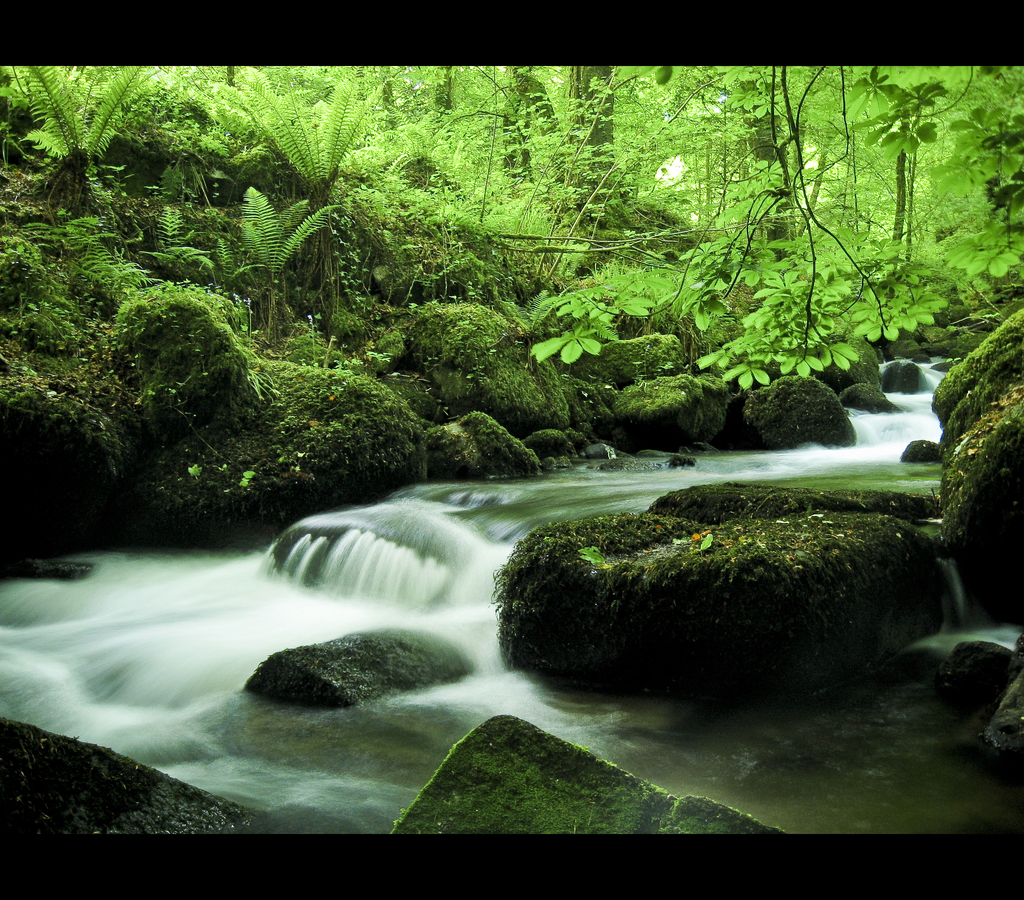Tree: (2, 62, 1023, 389)
